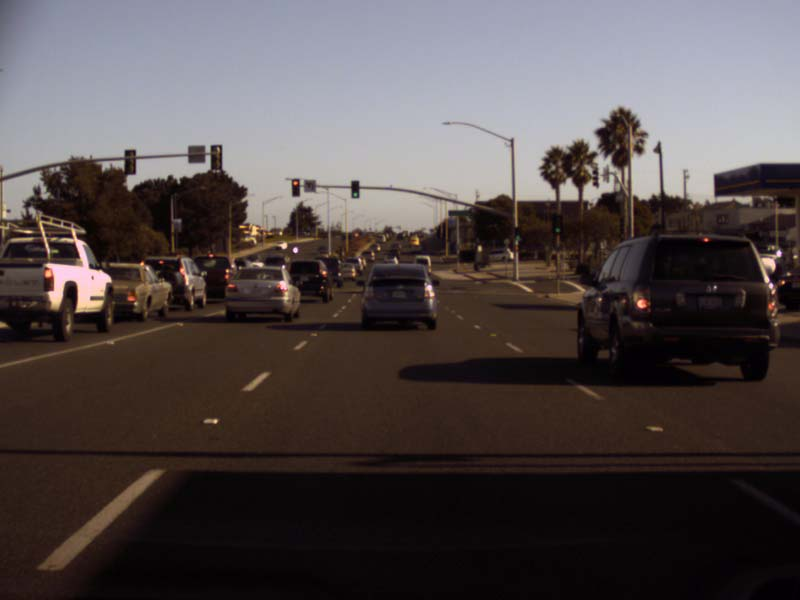Green: (552, 214, 562, 233), (350, 179, 358, 198), (513, 227, 520, 239)
Red: (290, 177, 299, 197)
